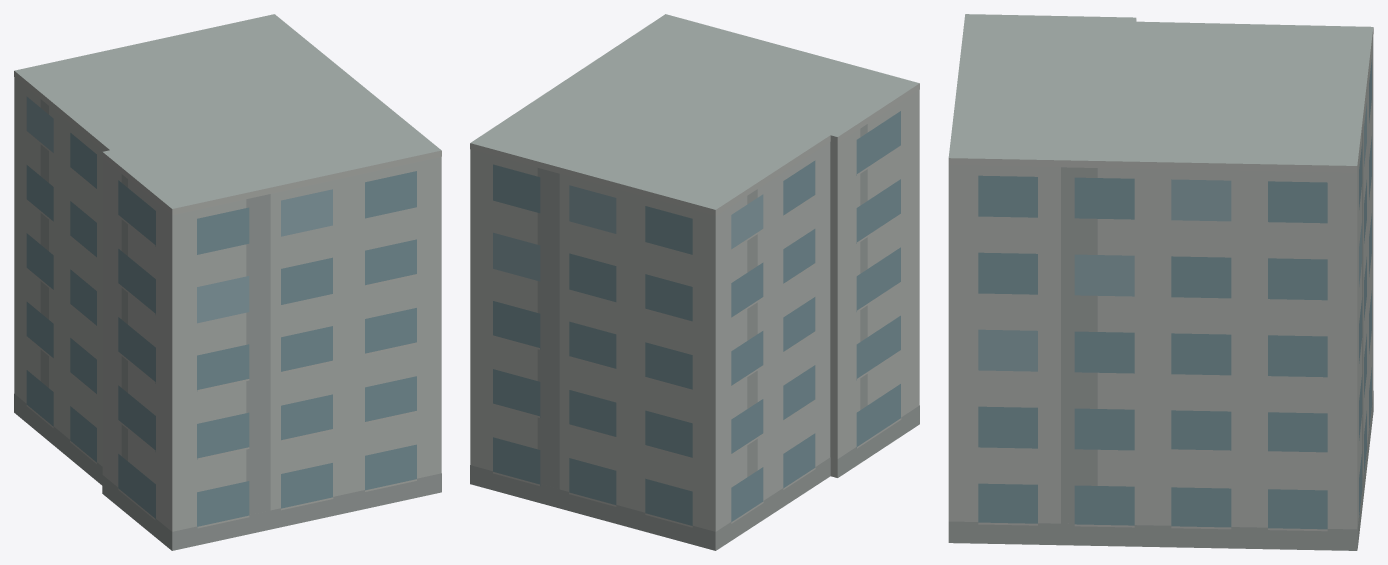
Rendered from survey-upis-32553839.glb.
The picture shows the model from 3 angles, left to right: view 1: azimuth 30°, elevation 25°; view 2: azimuth 150°, elevation 25°; view 3: azimuth 270°, elevation 25°; orthographic projection. The views are drawn at different scales.
Parts seen in each view (by area): view 1: survey-upis-32553839.tmp; view 2: survey-upis-32553839.tmp; view 3: survey-upis-32553839.tmp.
Boxes of the visible parts, box(x1,y1,x2,y2) form: survey-upis-32553839.tmp: box(14, 14, 441, 550); survey-upis-32553839.tmp: box(470, 14, 919, 550); survey-upis-32553839.tmp: box(948, 14, 1373, 550).
Bounding box in the file's own units: 11.19 × 13.2 × 13.21.
